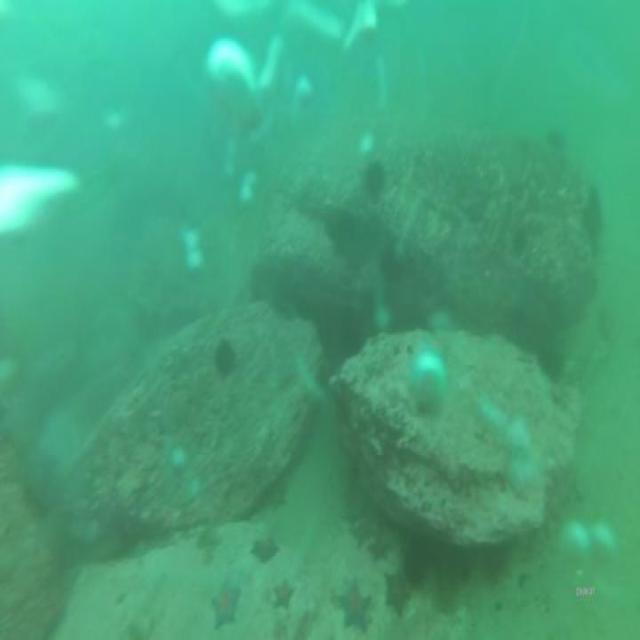echinus: (213, 338, 241, 381), (362, 160, 387, 200)
starfish: (338, 580, 375, 635), (209, 577, 243, 630), (382, 569, 412, 619), (249, 531, 281, 567), (272, 575, 294, 612)
